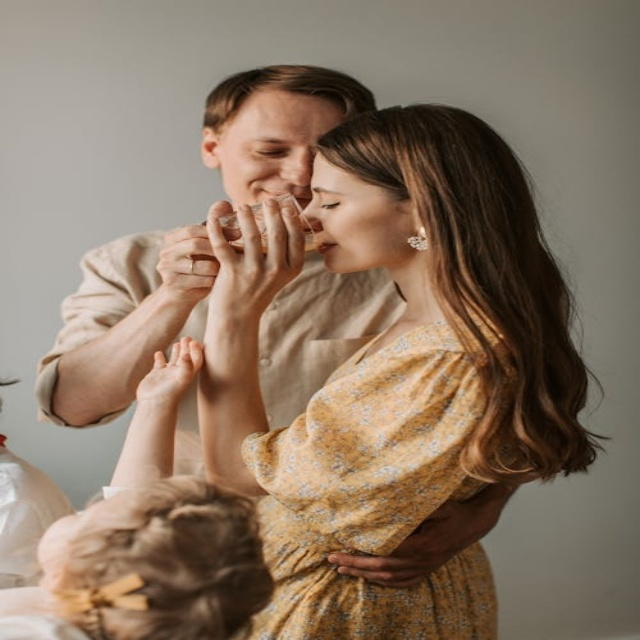Sin_gafas: (225, 136, 314, 160), (310, 180, 376, 212)
Sin_guantes: (326, 492, 505, 588), (197, 193, 312, 321), (132, 332, 205, 408), (154, 217, 211, 305)
Sin_mascara: (315, 231, 370, 273)
